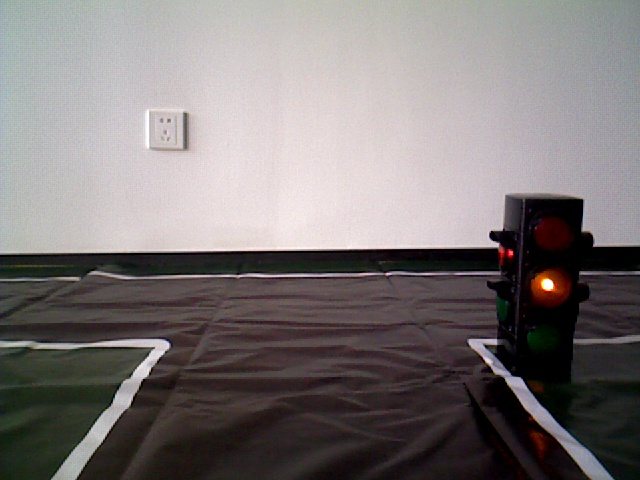yellow: (503, 195, 585, 364)
